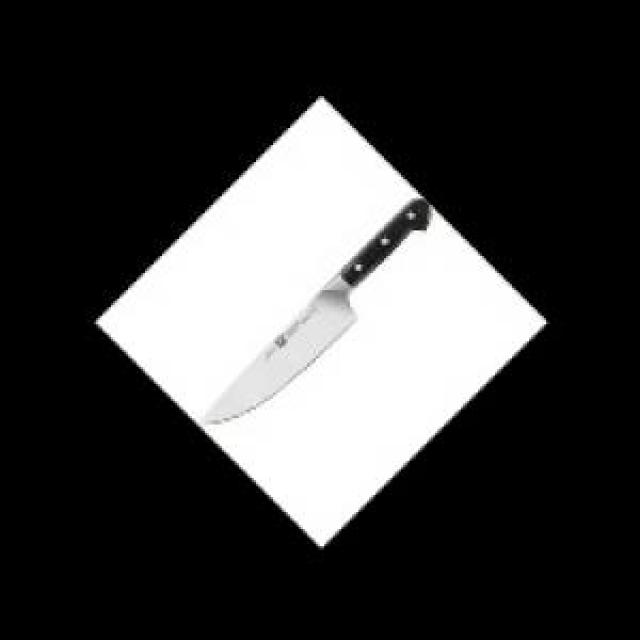knife: (211, 194, 435, 430)
